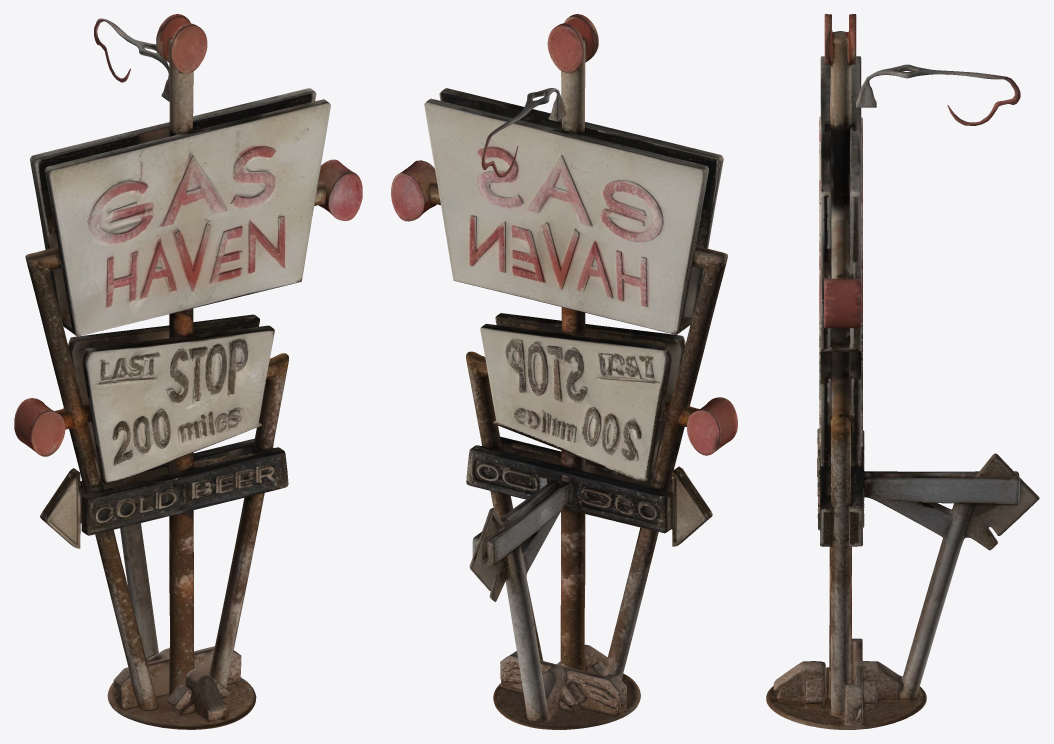
Rendered from panneau.glb.
3 renders of one model, left to right at view 1: azimuth 30°, elevation 25°; view 2: azimuth 150°, elevation 25°; view 3: azimuth 270°, elevation 25°, orthographic.
Parts seen in each view (by area): view 1: node_0; view 2: node_0; view 3: node_0.
Boxes of the visible parts, box(x1,y1,x2,y2) form: node_0: box(14, 14, 362, 729); node_0: box(391, 14, 737, 729); node_0: box(766, 14, 1039, 729).
Size of the model in its own units: 57.5 by 113 by 41.07.
1 material, 1 textured.
